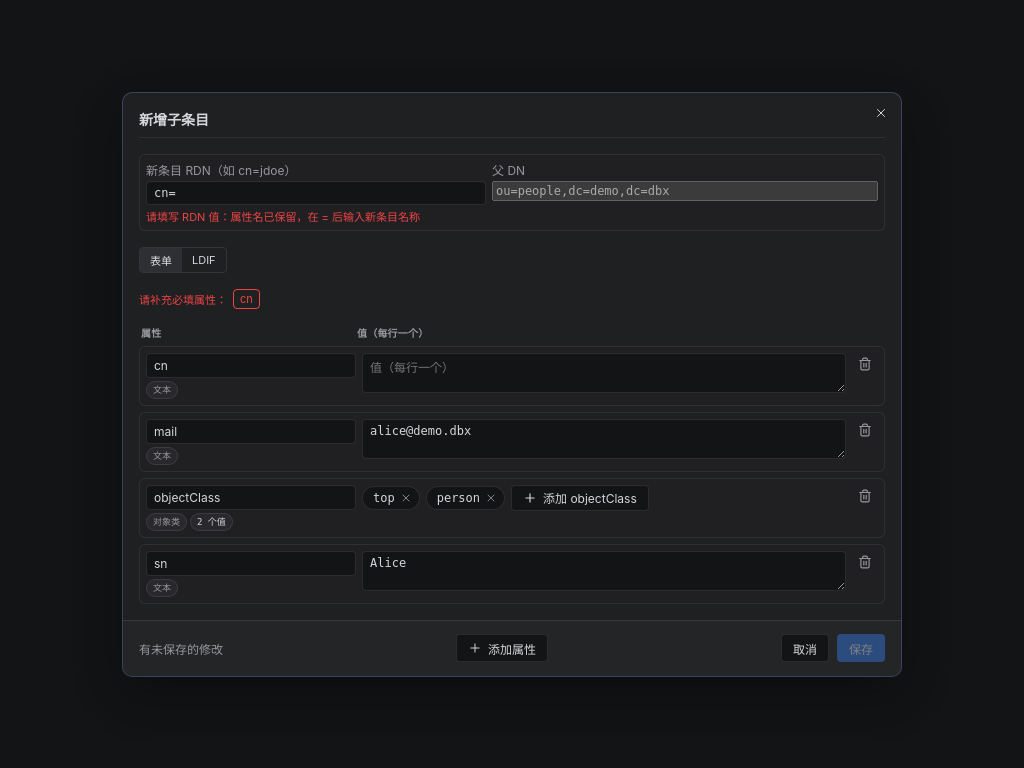
Scenario: EntryEditorDialog copy-entry prefill › guides filling the RDN value instead of flagging an invalid format for the prefill state
Expected: the element with class "add-dn-row" is shown, [139,154,885,230]
Step 1. Replace the text in the field labelled "新条目 RDN（如 cn=jdoe） 请填写 RDN 值：属性名已保留，在 = 后输入新条目名称" with "cn=Alice2" → point(316, 192), box [146,180,486,204]
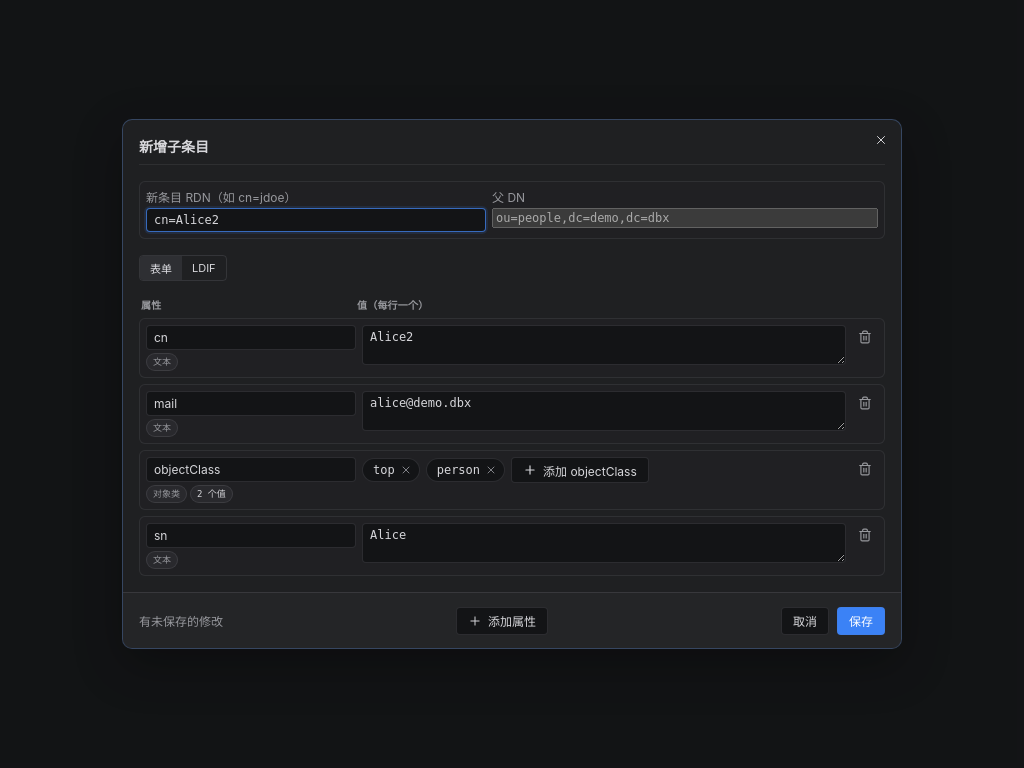
Expected: the text "请填写 RDN 值：属性名已保留，在 = 后输入新条目名称" is gone
